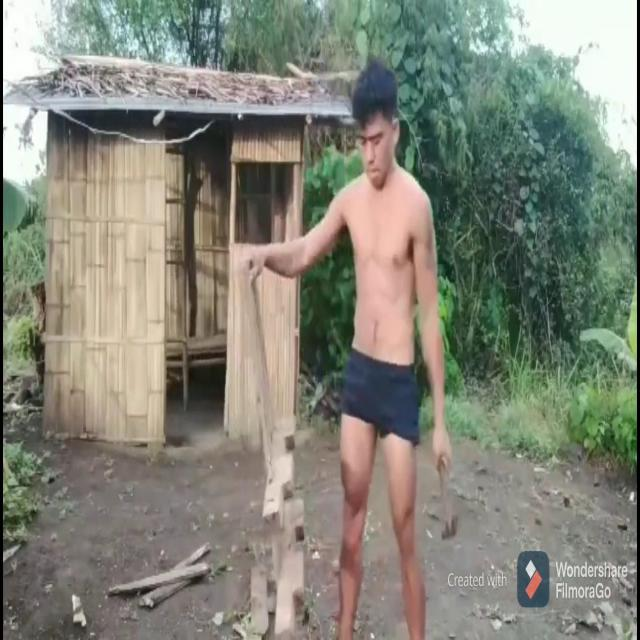hammer: (436, 455, 460, 545)
